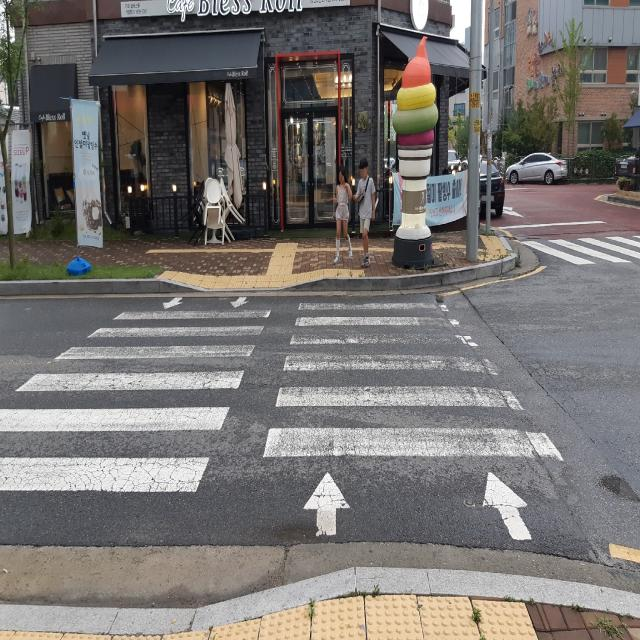횡단보도: (0, 298, 564, 542), (516, 234, 640, 264)
